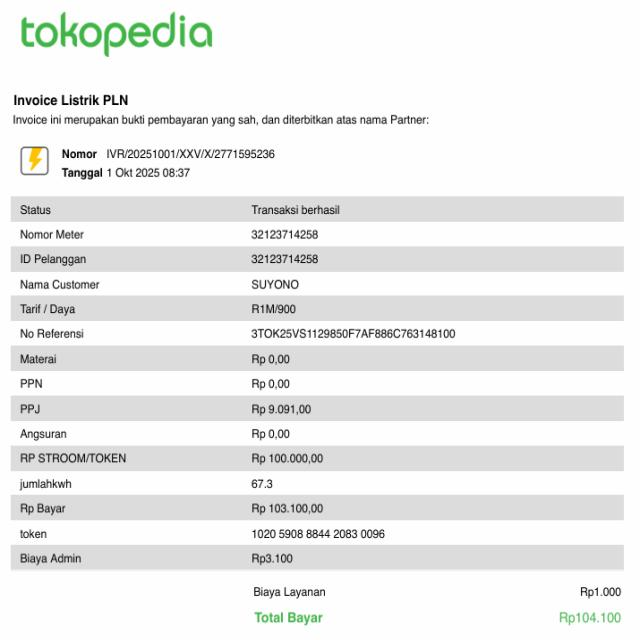date: (104, 163, 198, 184)
store: (14, 11, 219, 58), (11, 92, 130, 113)
total: (252, 606, 629, 632)
